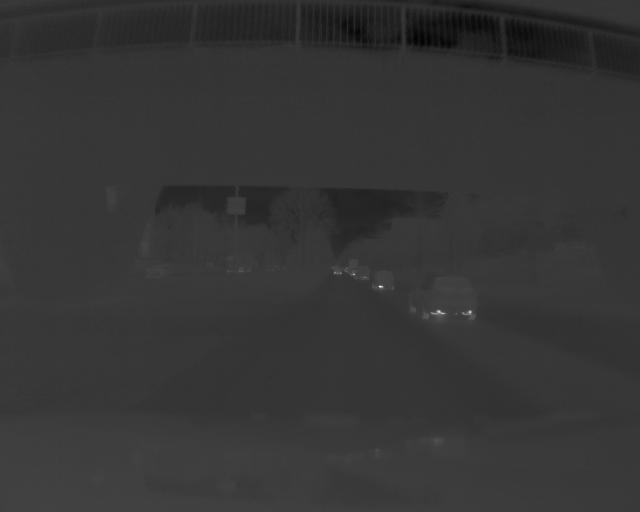car: (408, 275, 478, 325), (370, 266, 397, 291), (353, 264, 370, 281), (331, 264, 342, 276)
